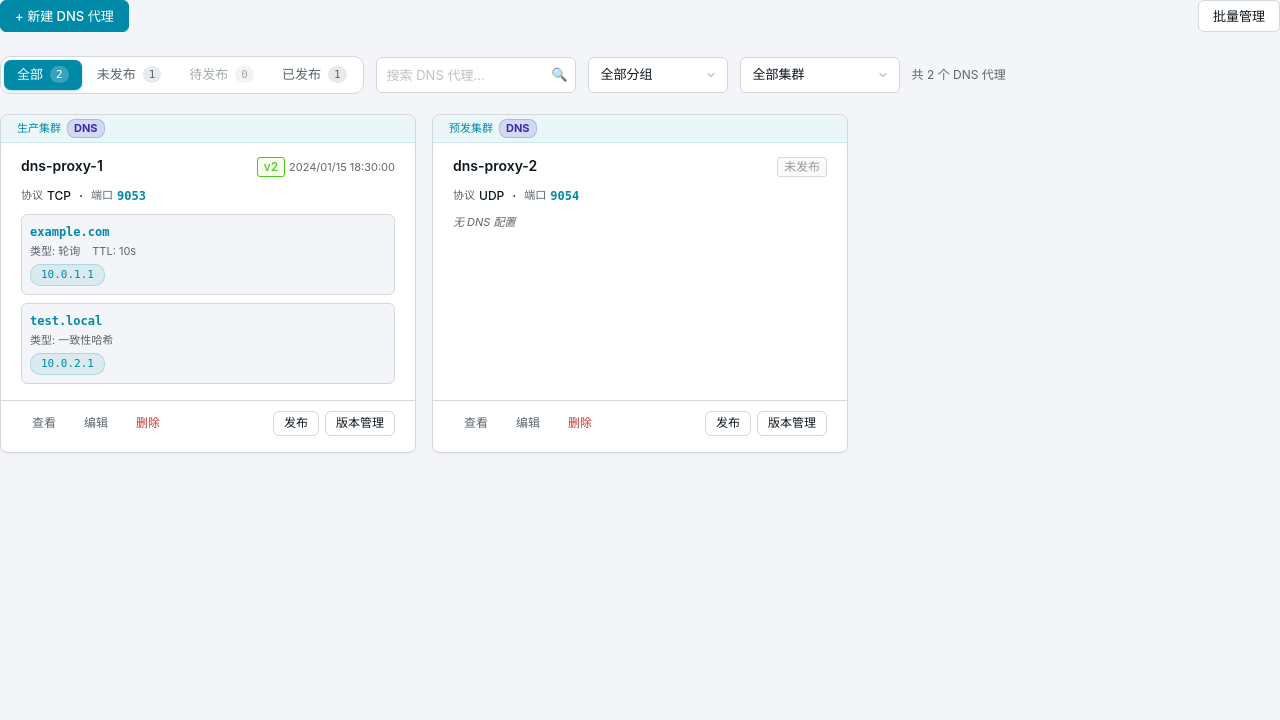
DnsUdpProxyList.vue 批量管理 › 退出批量管理清空选择
What coordinates should you click on to do the following:
click the button "批量管理"
I would click on:
 (1239, 16)
Its box is top-left (1198, 0), bottom-right (1279, 32).
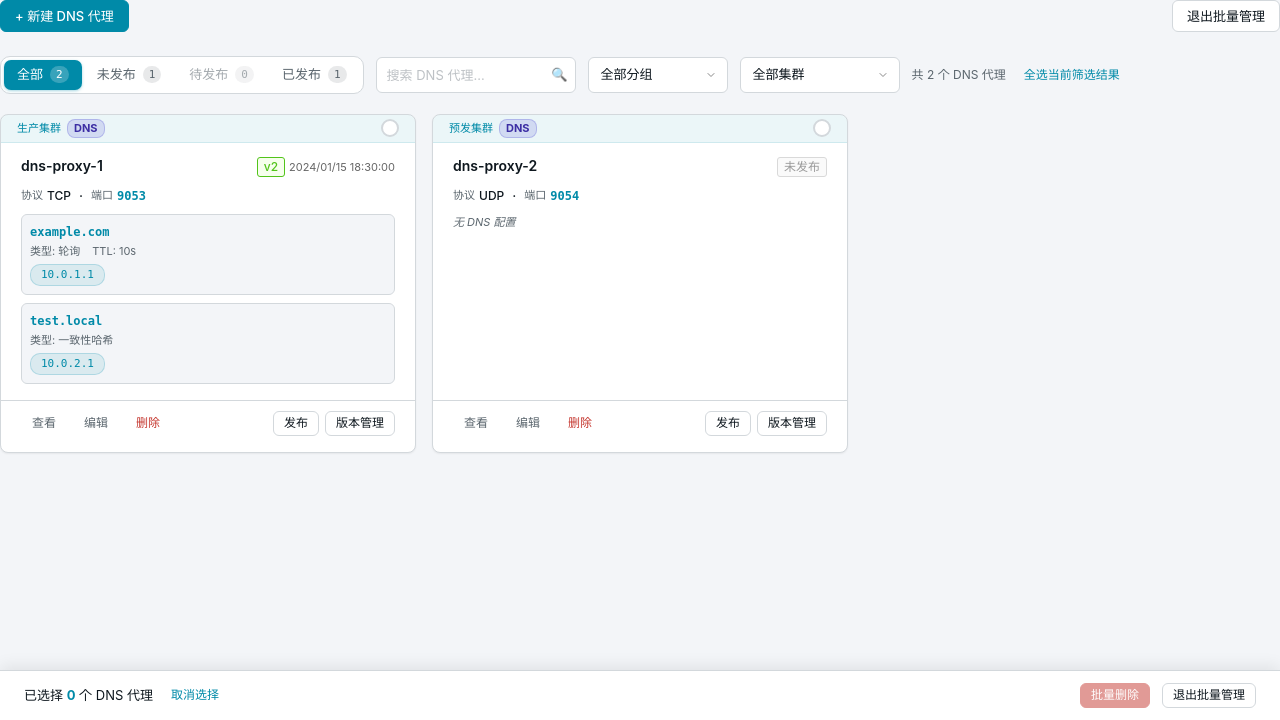
What coordinates should you click on to do the following:
click the element with class "sp-checkbox" in the row of "生产集群"
I would click on:
 (390, 128)
Its box is top-left (381, 119), bottom-right (399, 137).
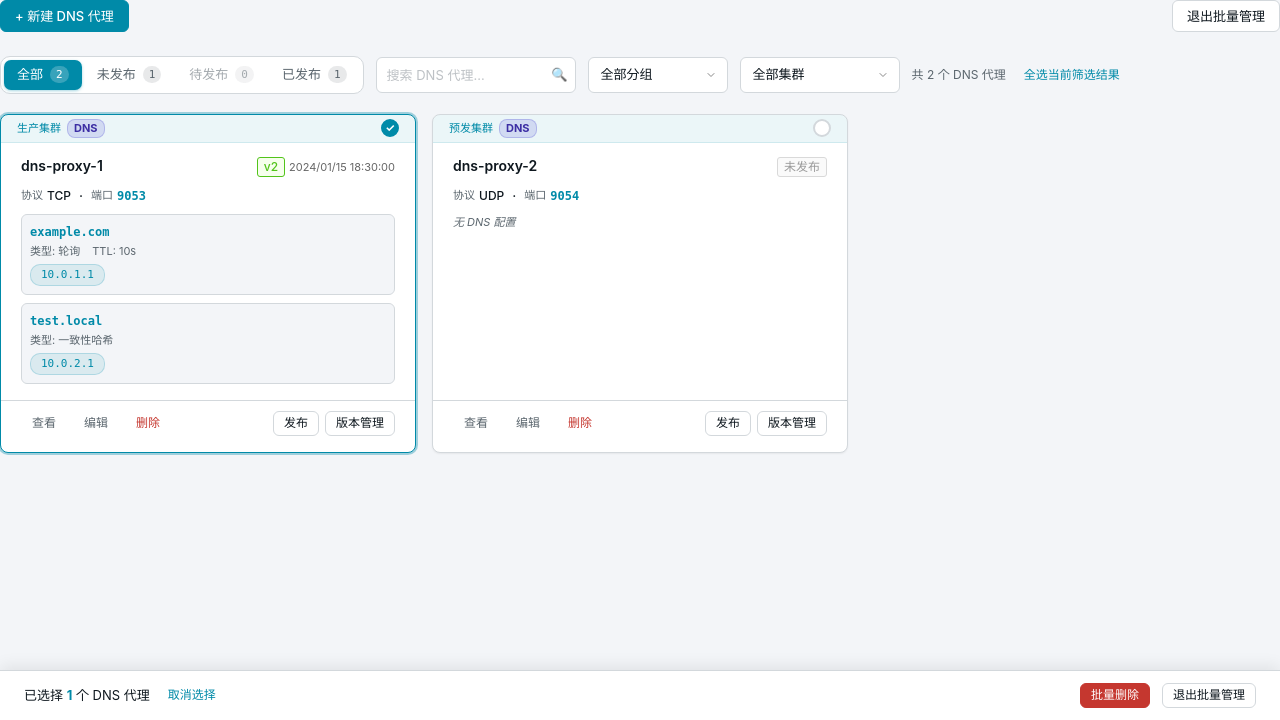
expect the number of elements with class "selected" is 1: met, box top-left (0, 114), bottom-right (416, 453)
What coordinates should you click on to do the following:
click the 1st button "退出批量管理"
I would click on:
 (1226, 16)
Its box is top-left (1172, 0), bottom-right (1279, 32).
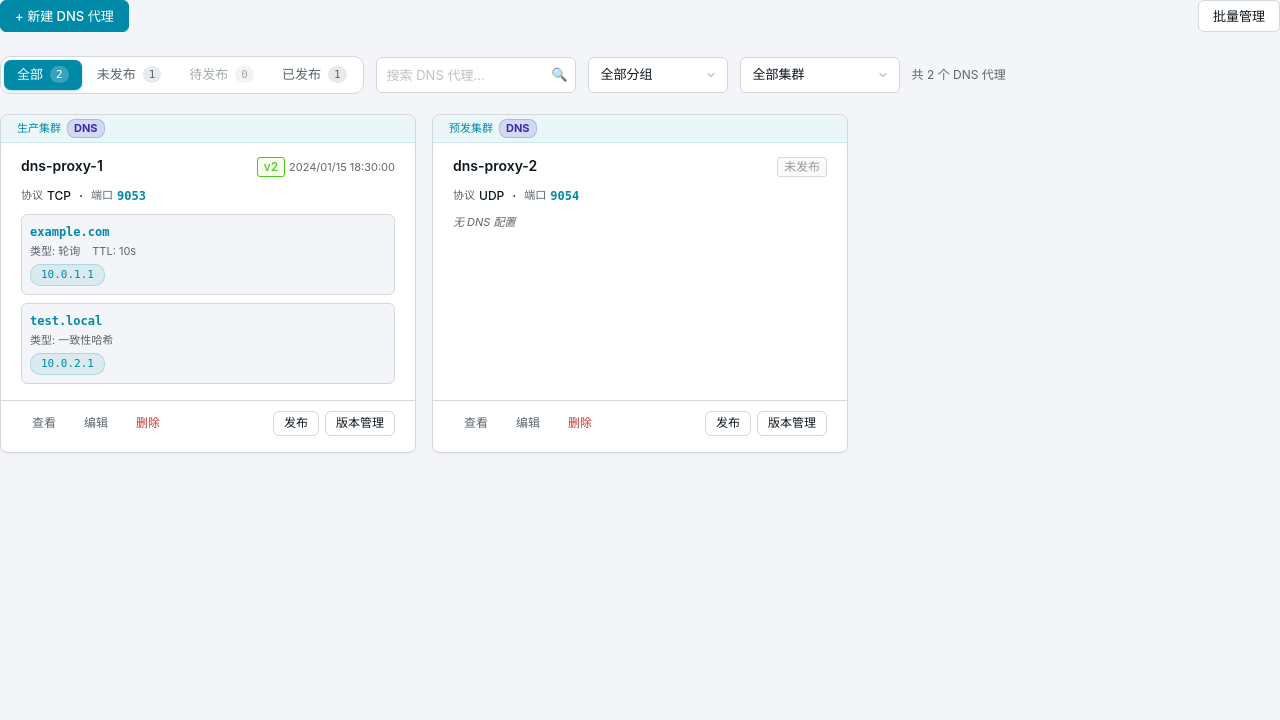
expect no elements with class "sp-checkbox" are shown: met
